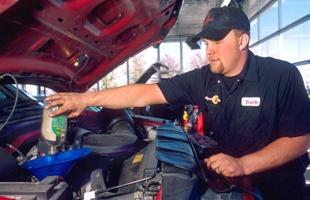person: (43, 4, 309, 199)
